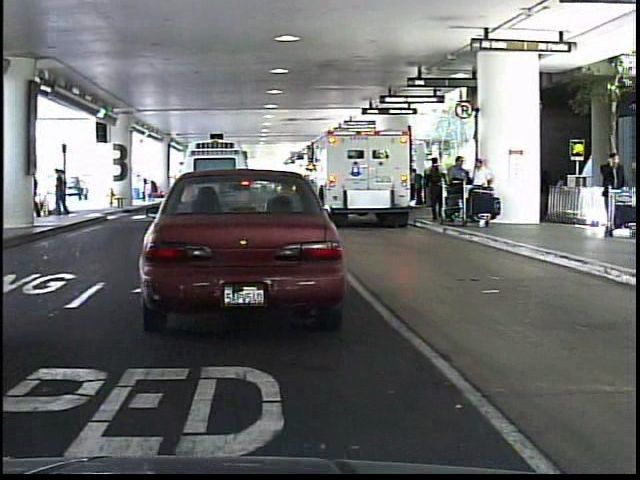person: (51, 166, 71, 222)
